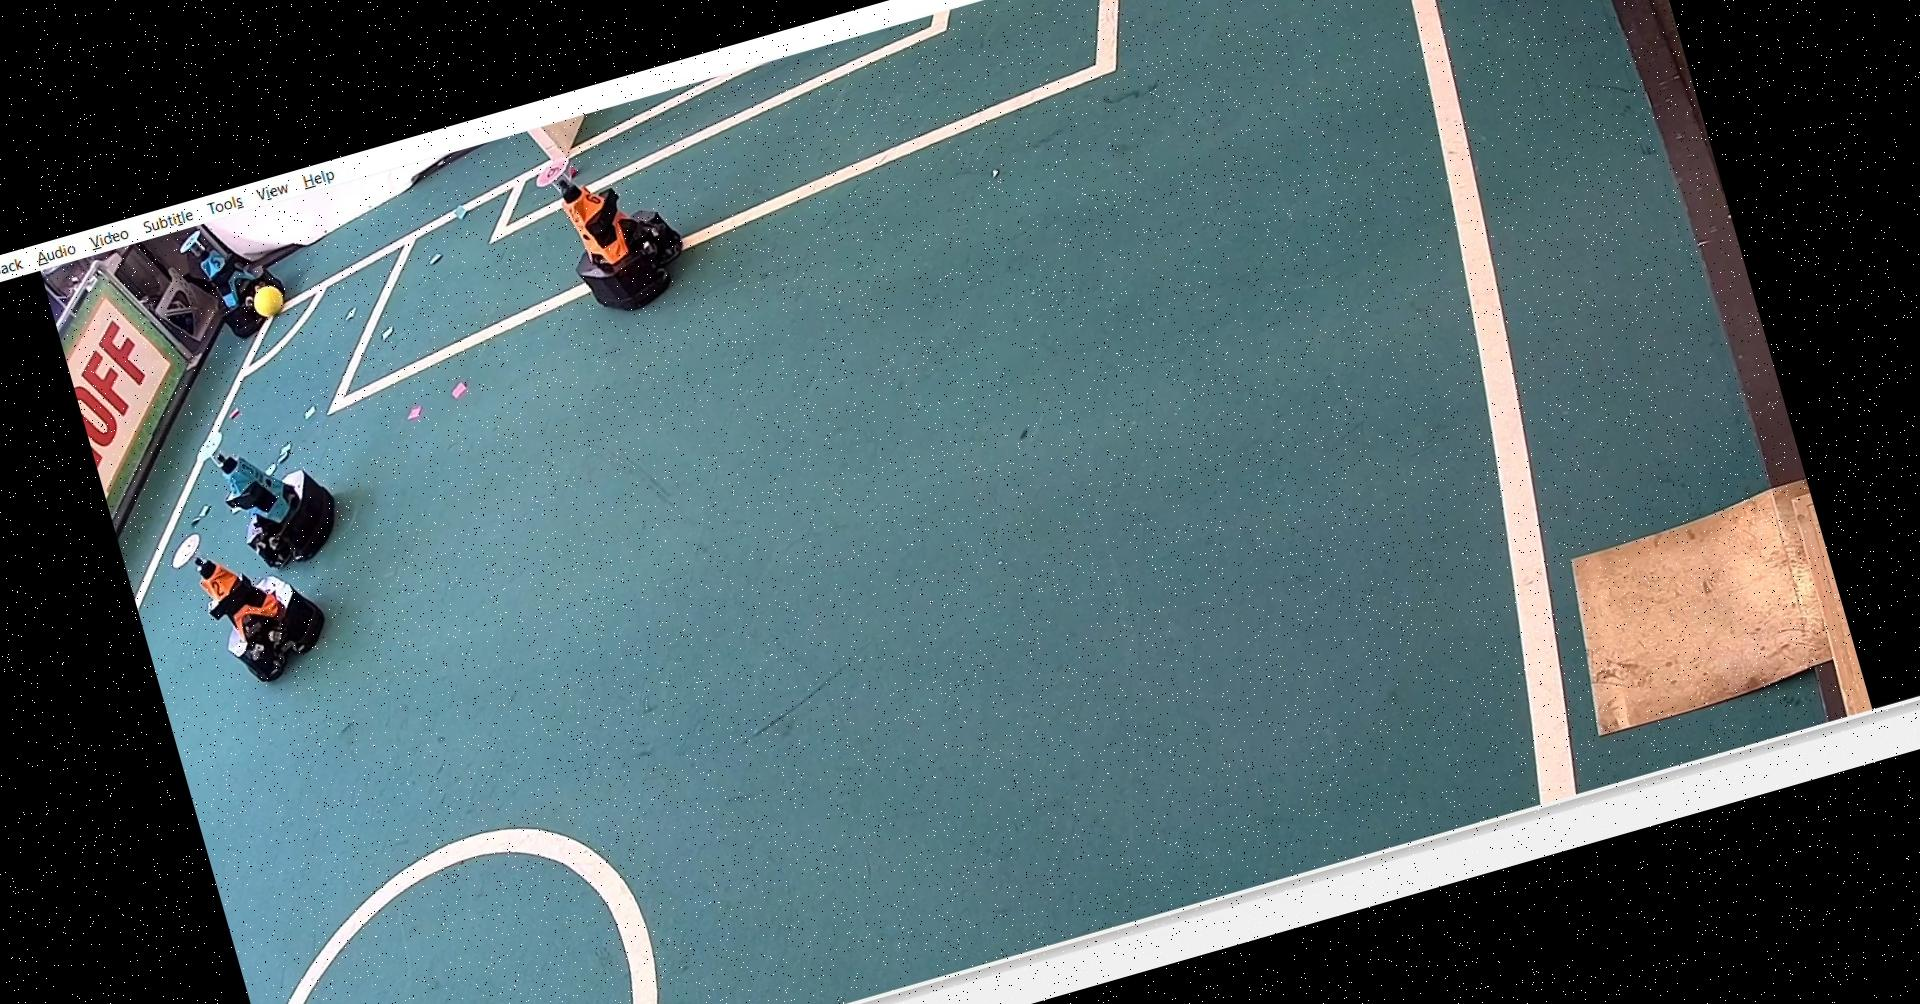Ball: (245, 275, 298, 326)
Team_Blue: (190, 402, 349, 583), (171, 209, 300, 349)
Team_Red: (163, 500, 344, 703), (527, 123, 700, 334)
